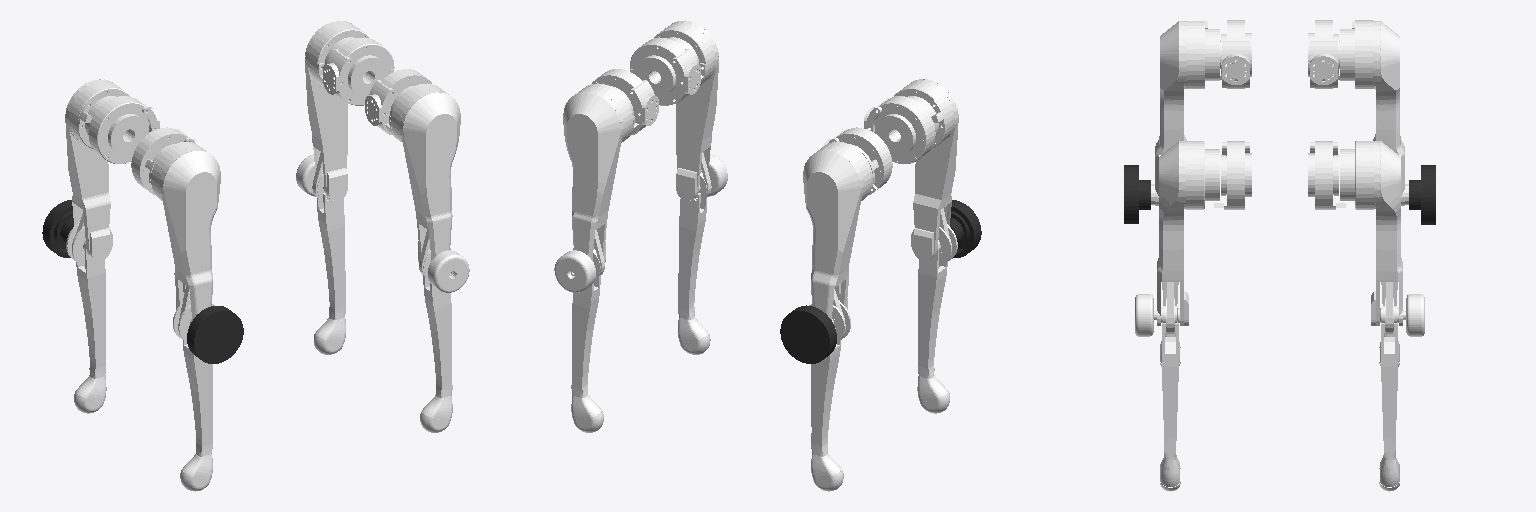
--- What the picture shows (computed from the rendered views, not written in the file) ---
Views: 3 orthographic renders of the robot side by side, from view 1: azimuth 30°, elevation 25°; view 2: azimuth 150°, elevation 25°; view 3: azimuth 270°, elevation 25°.
Robot: x_leopard — 23 links, 22 joints (12 revolute, 10 fixed); root link body; default pose: all joints at 0.
Links seen in each view (by area): view 1: link_FR2, link_HR2, link_HL2, link_FL2, link_HL3, link_FL3, link_HR3, link_HL1, link_FR3, link_FL1, link_HRW, link_FR1 (+4 smaller); view 2: link_FL2, link_HL2, link_HR2, link_FR2, link_HR3, link_FR3, link_HL3, link_HR1, link_FL3, link_FR1, link_HLW, link_FL1 (+4 smaller); view 3: link_FL2, link_FR2, link_HL2, link_HR2, link_FL3, link_FR3, link_FR1, link_FL1, link_HR1, link_HL1, link_HLW, link_HRW (+2 smaller).
Boxes of the visible links, left/top/right/bottom form: link_FR2: left=385, top=83, right=460, bottom=277; link_HR2: left=145, top=142, right=220, bottom=320; link_HL2: left=65, top=79, right=129, bottom=260; link_FL2: left=305, top=20, right=369, bottom=200; link_HL3: left=66, top=222, right=112, bottom=413; link_FL3: left=314, top=170, right=345, bottom=354; link_HR3: left=173, top=299, right=214, bottom=491; link_HL1: left=88, top=96, right=159, bottom=163; link_FR3: left=420, top=248, right=452, bottom=432; link_FL1: left=323, top=38, right=394, bottom=105; link_HRW: left=187, top=306, right=243, bottom=363; link_FR1: left=365, top=69, right=431, bottom=135; link_FL2: left=563, top=83, right=638, bottom=277; link_HL2: left=803, top=142, right=878, bottom=319; link_HR2: left=894, top=79, right=958, bottom=260; link_FR2: left=654, top=20, right=718, bottom=200; link_HR3: left=911, top=222, right=957, bottom=413; link_FR3: left=678, top=170, right=710, bottom=354; link_HL3: left=809, top=301, right=850, bottom=491; link_HR1: left=864, top=96, right=935, bottom=163; link_FL3: left=571, top=248, right=603, bottom=432; link_FR1: left=630, top=38, right=700, bottom=105; link_HLW: left=780, top=305, right=836, bottom=363; link_FL1: left=592, top=69, right=658, bottom=135; link_FL2: left=1340, top=141, right=1405, bottom=333; link_FR2: left=1154, top=141, right=1219, bottom=333; link_HL2: left=1339, top=20, right=1408, bottom=205; link_HR2: left=1151, top=21, right=1220, bottom=205; link_FL3: left=1379, top=298, right=1399, bottom=491; link_FR3: left=1160, top=298, right=1180, bottom=491; link_FR1: left=1214, top=141, right=1251, bottom=209; link_FL1: left=1308, top=141, right=1345, bottom=209; link_HR1: left=1220, top=20, right=1251, bottom=88; link_HL1: left=1308, top=20, right=1339, bottom=88; link_HLW: left=1409, top=165, right=1435, bottom=224; link_HRW: left=1124, top=165, right=1150, bottom=223.
Bounding box of the posed robot: 0.4839 × 0.427 × 0.5219 m (x, y, z).
16 mesh visuals loaded from 17 distinct referenced files (16 binary STL); not drawn: 1 (reference not matched to a file when rendering).

URDF robot description (x_leopard):
<?xml version="1.0" ?>
<!-- =================================================================================== -->
<!-- |    This document was autogenerated by xacro from x_leopard_wheeled_all.xacro    | -->
<!-- |    EDITING THIS FILE BY HAND IS NOT RECOMMENDED                                 | -->
<!-- =================================================================================== -->
<robot name="x_leopard">

    <link name="body">
        <inertial>
            <origin rpy="0 0 0" xyz="-0.00458458 0.00306684 0.00947989"/>
            <mass value="5.76855"/>
            <inertia ixx="0.0478275" ixy="0.000562337" ixz="0.000154559" iyy="0.105776" iyz="0.00054122"
                     izz="0.121012"/>
        </inertial>
        <visual>
            <origin rpy="3.1415 0 0" xyz="0 0 0"/>
            <geometry>
                <mesh filename="package://max/meshes/visual/body.dae"/>
            </geometry>
            <material name="">
                <color rgba="0.0 0.0 0.0 1.0"/>
            </material>
        </visual>
        <collision>
            <origin rpy="0 0 0" xyz="0 0 0"/>
            <geometry>
                <box size="0.283 0.205 0.11"/>
            </geometry>
        </collision>
    </link>

    <!-- FR leg -->
    <link name="link_FR1">
        <inertial>
            <origin rpy="0 0 0" xyz="-0.0028696 0.00034586 -0.00046692"/>
            <mass value="0.60318142"/>
            <inertia ixx="0.00036534" ixy="-0.00000156" ixz="-0.00000493" iyy="0.00064755" iyz="0.00000517"
                     izz="0.00041528"/>
        </inertial>
        <visual>
            <origin rpy="0 0 0" xyz="0 0 0"/>
            <geometry>
                <mesh filename="package://max/meshes/visual/link_FR1.STL"/>
            </geometry>
            <material name="">
                <color rgba="1 1 1 1"/>
            </material>
        </visual>
        <collision>
            <origin rpy="1.5707963267948966 0 0" xyz="0 0 0"/>
            <geometry>
                <cylinder length="0.0255" radius="0.047"/>
            </geometry>
        </collision>
    </link>

    <joint name="joint_FR1" type="revolute">
        <origin rpy="0 0 0" xyz="0.195 -0.06 0"/>
        <parent link="body"/>
        <child link="link_FR1"/>
        <axis xyz="1 0 0"/>
        <limit effort="18" lower="-0.872" upper="0.697" velocity="20"/>
        <dynamics damping="0.1" friction="0.5"/>
    </joint>

    <link name="link_FR2">
        <inertial>
            <origin rpy="0 0 0" xyz="-0.000703565074415824 0.0258167471878678 -0.0273471174219229"/>
            <mass value="0.87782621"/>
            <inertia ixx="0.00362810" ixy="-0.00000033" ixz="0.00001632" iyy="0.00369602" iyz="0.00052212"
                     izz="0.00075378"/>
        </inertial>
        <visual>
            <origin rpy="0 0 0" xyz="0 0 0"/>
            <geometry>
                <mesh filename="package://max/meshes/visual/link_FR2.STL"/>
            </geometry>
            <material name="">
                <color rgba="1 1 1 1"/>
            </material>
        </visual>
        <collision>
            <origin rpy="0 1.5707963267948966 0" xyz="0 0 -0.1"/>
            <geometry>
                <box size="0.2 0.025 0.035"/>
            </geometry>
        </collision>
        <collision>
            <origin rpy="1.5707963267948966 0 0" xyz="0 0 0"/>
            <geometry>
                <cylinder length="0.025" radius="0.023"/>
            </geometry>
        </collision>
        <collision>
            <origin rpy="1.5707963267948966 0 0" xyz="0 0.030 0"/>
            <geometry>
                <cylinder length="0.025" radius="0.047"/>
            </geometry>
        </collision>
    </link>

    <joint name="joint_FR2" type="revolute">
        <origin rpy="0 0 0" xyz="0 -0.09 0"/>
        <parent link="link_FR1"/>
        <child link="link_FR2"/>
        <axis xyz="0 -1 0"/>
        <limit effort="18" lower="-4.3633" upper="1.2217" velocity="20"/>
        <dynamics damping="0.1" friction="0.5"/>
    </joint>

    <link name="link_FR3">
        <inertial>
            <origin rpy="0 0 0" xyz="0.00154910870409444 1.43664953849987E-07 -0.124416339725706"/>
            <mass value="0.16887830"/>
            <inertia ixx="0.00151605" ixy="0" ixz="0.00007039" iyy="0.00153030" iyz="-0.00000013" izz="0.00003410"/>
        </inertial>
        <visual>
            <origin rpy="0 0 0" xyz="0 0 0"/>
            <geometry>
                <mesh filename="package://max/meshes/visual/link_FR3.STL"/>
            </geometry>
            <material name="">
                <color rgba="1 1 1 1"/>
            </material>
        </visual>
        <collision>
            <origin rpy="0 1.5707963267948966 0" xyz="0 0 -0.105"/>
            <geometry>
                <box size="0.24 0.02 0.018"/>
            </geometry>
        </collision>
    </link>

    <joint name="joint_FR3" type="revolute">
        <origin rpy="0 0 0" xyz="0 0 -0.2115"/>
        <parent link="link_FR2"/>
        <child link="link_FR3"/>
        <axis xyz="0 -1 0"/>
        <limit effort="18" lower="-2.4496" upper="2.5440" velocity="33"/>
        <dynamics damping="0.1" friction="0.5"/>
    </joint>

    <link name="link_FR4">
        <inertial>
            <origin rpy="0 0 0" xyz="0 0 0"/>
            <mass value="0"/>
            <inertia ixx="0" ixy="0" ixz="0" iyy="0" iyz="0" izz="0"/>
        </inertial>
        <visual>
            <origin rpy="0 0 0" xyz="0 0 0"/>
            <geometry>
                <sphere radius="0.001"/>
            </geometry>
        </visual>
        <collision>
            <origin rpy="0 0 0" xyz="0 0 0"/>
            <geometry>
                <sphere radius="0.025"/>
            </geometry>
        </collision>
    </link>

    <joint name="joint_FR4" type="fixed">
        <origin rpy="0 0 0" xyz="0 0 -0.24"/>
        <parent link="link_FR3"/>
        <child link="link_FR4"/>
    </joint>

    <link name="link_FRW">
        <inertial>
            <origin rpy="0 0 0" xyz="0 0 0"/>
            <mass value="0.0629341609141129"/>
            <inertia ixx="0.00001749" ixy="0" ixz="0" iyy="0.00002918" iyz="0" izz="0.00001749"/>
        </inertial>
        <visual>
            <origin rpy="0 0 0" xyz="0 0 0"/>
            <geometry>
                <mesh filename="package://max/meshes/visual/link_FRW.STL"/>
            </geometry>
            <material name="">
                <color rgba="1 1 1 1"/>
            </material>
        </visual>
        <collision>
            <origin rpy="1.5707963267948966 0 0" xyz="0 0 0"/>
            <geometry>
                <cylinder length="0.012" radius="0.028"/>
            </geometry>
        </collision>
    </link>

    <joint name="joint_FRW" type="fixed">
        <origin rpy="0 0 0" xyz="0 -0.0355 -0.2115"/>
        <parent link="link_FR2"/>
        <child link="link_FRW"/>
        <axis xyz="0 -1 0"/>
        <limit effort="18" lower="-214700000" upper="214700000" velocity="33"/>
        <dynamics damping="0.8" friction="0.5"/>
    </joint>

    <!-- FL leg -->
    <link name="link_FL1">
        <inertial>
            <origin rpy="0 0 0" xyz="-0.0028696 -0.00034586 -0.00046692"/>
            <mass value="0.60318142"/>
            <inertia ixx="0.00036534" ixy="0.00000156" ixz="-0.00000493" iyy="0.00064755" iyz="-0.00000517"
                     izz="0.00041528"/>
        </inertial>
        <visual>
            <origin rpy="0 0 0" xyz="0 0 0"/>
            <geometry>
                <mesh filename="package://max/meshes/visual/link_FL1.STL"/>
            </geometry>
            <material name="">
                <color rgba="1 1 1 1"/>
            </material>
        </visual>
        <collision>
            <origin rpy="1.5707963267948966 0 0" xyz="0 0 0"/>
            <geometry>
                <cylinder length="0.0255" radius="0.047"/>
            </geometry>
        </collision>
    </link>

    <joint name="joint_FL1" type="revolute">
        <origin rpy="0 0 0" xyz="0.195 0.06 0"/>
        <parent link="body"/>
        <child link="link_FL1"/>
        <axis xyz="1 0 0"/>
        <limit effort="18" lower="-0.697" upper="0.872" velocity="20"/>
        <dynamics damping="0.1" friction="0.5"/>
    </joint>

    <link name="link_FL2">
        <inertial>
            <origin rpy="0 0 0" xyz="-0.000703565074415824 -0.0258167471878678 -0.0273471174219229"/>
            <mass value="0.87782621"/>
            <inertia ixx="0.00362810" ixy="0.00000033" ixz="0.00001632" iyy="0.00369602" iyz="-0.00052212"
                     izz="0.00075378"/>
        </inertial>
        <visual>
            <origin rpy="0 0 0" xyz="0 0 0"/>
            <geometry>
                <mesh filename="package://max/meshes/visual/link_FL2.STL"/>
            </geometry>
            <material name="">
                <color rgba="1 1 1 1"/>
            </material>
        </visual>
        <collision>
            <origin rpy="0 1.5707963267948966 0" xyz="0 0 -0.1"/>
            <geometry>
                <box size="0.2 0.025 0.035"/>
            </geometry>
        </collision>
        <collision>
            <origin rpy="1.5707963267948966 0 0" xyz="0 0 0"/>
            <geometry>
                <cylinder length="0.025" radius="0.023"/>
            </geometry>
        </collision>
        <collision>
            <origin rpy="1.5707963267948966 0 0" xyz="0 -0.030 0"/>
            <geometry>
                <cylinder length="0.025" radius="0.047"/>
            </geometry>
        </collision>
    </link>

    <joint name="joint_FL2" type="revolute">
        <origin rpy="0 0 0" xyz="0 0.09 0"/>
        <parent link="link_FL1"/>
        <child link="link_FL2"/>
        <axis xyz="0 -1 0"/>
        <limit effort="18" lower="-4.3633" upper="1.2217" velocity="20"/>
        <dynamics damping="0.1" friction="0.5"/>
    </joint>

    <link name="link_FL3">
        <inertial>
            <origin rpy="0 0 0" xyz="0.00154910870409444 1.43664953849987E-07 -0.124416339725706"/>
            <mass value="0.16887830"/>
            <inertia ixx="0.00151605" ixy="0" ixz="0.00007039" iyy="0.00153030" iyz="-0.00000013" izz="0.00003410"/>
        </inertial>
        <visual>
            <origin rpy="0 0 0" xyz="0 0 0"/>
            <geometry>
                <mesh filename="package://max/meshes/visual/link_FL3.STL"/>
            </geometry>
            <material name="">
                <color rgba="1 1 1 1"/>
            </material>
        </visual>
        <collision>
            <origin rpy="0 1.5707963267948966 0" xyz="0 0 -0.12"/>
            <geometry>
                <box size="0.24 0.02 0.018"/>
            </geometry>
        </collision>
    </link>

    <joint name="joint_FL3" type="revolute">
        <origin rpy="0 0 0" xyz="0 0 -0.2115"/>
        <parent link="link_FL2"/>
        <child link="link_FL3"/>
        <axis xyz="0 -1 0"/>
        <limit effort="18" lower="-2.4496" upper="2.5440" velocity="33"/>
        <dynamics damping="0.1" friction="0.5"/>
    </joint>

    <link name="link_FL4">
        <inertial>
            <origin rpy="0 0 0" xyz="0 0 0"/>
            <mass value="0"/>
            <inertia ixx="0" ixy="0" ixz="0" iyy="0" iyz="0" izz="0"/>
        </inertial>
        <visual>
            <origin rpy="0 0 0" xyz="0 0 0"/>
            <geometry>
                <sphere radius="0.001"/>
            </geometry>
        </visual>
        <collision>
            <origin rpy="0 0 0" xyz="0 0 0"/>
            <geometry>
                <sphere radius="0.025"/>
            </geometry>
        </collision>
    </link>

    <joint name="joint_FL4" type="fixed">
        <origin rpy="0 0 0" xyz="0 0 -0.24"/>
        <parent link="link_FL3"/>
        <child link="link_FL4"/>
    </joint>

    <link name="link_FLW">
        <inertial>
            <origin rpy="0 0 0" xyz="0 0 0"/>
            <mass value="0.0629341609141129"/>
            <inertia ixx="0.00001749" ixy="0" ixz="0" iyy="0.00002918" iyz="0" izz="0.00001749"/>
        </inertial>
        <visual>
            <origin rpy="0 0 0" xyz="0 0 0"/>
            <geometry>
                <mesh filename="package://max/meshes/visual/link_FLW.STL"/>
            </geometry>
            <material name="">
                <color rgba="1 1 1 1"/>
            </material>
        </visual>
        <collision>
            <origin rpy="1.5707963267948966 0 0" xyz="0 0 0"/>
            <geometry>
                <cylinder length="0.012" radius="0.028"/>
            </geometry>
        </collision>
    </link>

    <joint name="joint_FLW" type="fixed">
        <origin rpy="0 0 0" xyz="0 0.0355 -0.2115"/>
        <parent link="link_FL2"/>
        <child link="link_FLW"/>
        <axis xyz="0 -1 0"/>
        <limit effort="18" lower="-214700000" upper="214700000" velocity="33"/>
        <dynamics damping="0.8" friction="0.5"/>
    </joint>

    <!-- HR leg -->
    <link name="link_HR1">
        <inertial>
            <origin rpy="0 0 0" xyz="0.0028696 0.00034586 -0.00046692"/>
            <mass value="0.60318142"/>
            <inertia ixx="0.00036534" ixy="0.00000156" ixz="0.00000493" iyy="0.00064755" iyz="0.00000517"
                     izz="0.00041528"/>
        </inertial>
        <visual>
            <origin rpy="0 0 0" xyz="0 0 0"/>
            <geometry>
                <mesh filename="package://max/meshes/visual/link_HR1.STL"/>
            </geometry>
            <material name="">
                <color rgba="1 1 1 1"/>
            </material>
        </visual>
        <collision>
            <origin rpy="1.5707963267948966 0 0" xyz="0 0 0"/>
            <geometry>
                <cylinder length="0.0255" radius="0.047"/>
            </geometry>
        </collision>
    </link>

    <joint name="joint_HR1" type="revolute">
        <origin rpy="0 0 0" xyz="-0.195 -0.06 0"/>
        <parent link="body"/>
        <child link="link_HR1"/>
        <axis xyz="1 0 0"/>
        <limit effort="18" lower="-0.872" upper="0.697" velocity="20"/>
        <dynamics damping="0.1" friction="0.5"/>
    </joint>

    <link name="link_HR2">
        <inertial>
            <origin rpy="0 0 0" xyz="-0.00077477 0.02622481 -0.02560268"/>
            <mass value="0.89043408"/>
            <inertia ixx="0.00366698" ixy="0.00004816" ixz="-0.00007841" iyy="0.00417229" iyz="0.00046644"
                     izz="0.00119996"/>
        </inertial>
        <visual>
            <origin rpy="0 0 0" xyz="0 0 0"/>
            <geometry>
                <mesh filename="package://max/meshes/visual/link_HR2.STL"/>
            </geometry>
            <material name="">
                <color rgba="1 1 1 1"/>
            </material>
        </visual>
        <collision>
            <origin rpy="0 1.5707963267948966 0" xyz="0 0 -0.1"/>
            <geometry>
                <box size="0.2 0.025 0.035"/>
            </geometry>
        </collision>
        <collision>
            <origin rpy="1.5707963267948966 0 0" xyz="0 0 0"/>
            <geometry>
                <cylinder length="0.025" radius="0.023"/>
            </geometry>
        </collision>
        <collision>
            <origin rpy="1.5707963267948966 0 0" xyz="0 0.030 0"/>
            <geometry>
                <cylinder length="0.025" radius="0.047"/>
            </geometry>
        </collision>
    </link>

    <joint name="joint_HR2" type="revolute">
        <origin rpy="0 0 0" xyz="0 -0.09 0"/>
        <parent link="link_HR1"/>
        <child link="link_HR2"/>
        <axis xyz="0 -1 0"/>
        <limit effort="18" lower="-4.3633" upper="1.2217" velocity="20"/>
        <dynamics damping="0.1" friction="0.5"/>
    </joint>

    <link name="link_HR3">
        <inertial>
            <origin rpy="0 0 0" xyz="0.00171417901871168 -0.000158421724618441 -0.0867126641820617"/>
            <mass value="0.28839466"/>
            <inertia ixx="0.00208102" ixy="-0.00000004" ixz="0.00008280" iyy="0.00209717" iyz="-0.00000423"
                     izz="0.00006551"/>
        </inertial>
        <visual>
            <origin rpy="0 0 0" xyz="0 0 0"/>
            <geometry>
                <mesh filename="package://max/meshes/visual/link_HR3.STL"/>
            </geometry>
            <material name="">
                <color rgba="1 1 1 1"/>
            </material>
        </visual>
        <collision>
            <origin rpy="0 1.5707963267948966 0" xyz="0 0 -0.105"/>
            <geometry>
                <box size="0.24 0.02 0.018"/>
            </geometry>
        </collision>
    </link>

    <joint name="joint_HR3" type="revolute">
        <origin rpy="0 0 0" xyz="0 0 -0.2115"/>
        <parent link="link_HR2"/>
        <child link="link_HR3"/>
        <axis xyz="0 -1 0"/>
        <limit effort="18" lower="-2.3995" upper="2.5855" velocity="33"/>
        <dynamics damping="0.1" friction="0.5"/>
    </joint>

    <link name="link_HR4">
        <inertial>
            <origin rpy="0 0 0" xyz="0 0 0"/>
            <mass value="0"/>
            <inertia ixx="0" ixy="0" ixz="0" iyy="0" iyz="0" izz="0"/>
        </inertial>
        <visual>
            <origin rpy="0 0 0" xyz="0 0 0"/>
            <geometry>
                <sphere radius="0.001"/>
            </geometry>
        </visual>
        <collision>
            <origin rpy="0 0 0" xyz="0 0 0"/>
            <geometry>
                <sphere radius="0.025"/>
            </geometry>
        </collision>
    </link>

    <joint name="joint_HR4" type="fixed">
        <origin rpy="0 0 0" xyz="0 0 -0.24"/>
        <parent link="link_HR3"/>
        <child link="link_HR4"/>
    </joint>

    <link name="link_HRW">
        <inertial>
            <origin rpy="0 0 0" xyz="0 0 0"/>
            <mass value="0.120"/>
            <inertia ixx="0.000025" ixy="0" ixz="0" iyy="0.000040" iyz="0" izz="0.000025"/>
        </inertial>
        <visual>
            <origin rpy="0 0 0" xyz="0 0.02115 0"/>
            <geometry>
                <mesh filename="package://max/meshes/visual/link_HRW.STL"/>
            </geometry>
            <material name="">
                <color rgba="0.250980392156863 0.250980392156863 0.250980392156863 1"/>
            </material>
        </visual>
        <collision>
            <origin rpy="1.5707963267948966 0 0" xyz="0 0 0"/>
            <geometry>
                <cylinder length="0.016" radius="0.036"/>
            </geometry>
        </collision>
    </link>

    <joint name="joint_HRW" type="fixed">
        <origin rpy="0 1.5708 0" xyz="0 -0.04795 -0.2115"/>
        <parent link="link_HR2"/>
        <child link="link_HRW"/>
        <axis xyz="0 -1 0"/>
        <limit effort="18" lower="-214700000" upper="214700000" velocity="33"/>
        <dynamics damping="0.8" friction="0.5"/>
    </joint>

    <!-- HL leg -->
    <link name="link_HL1">
        <inertial>
            <origin rpy="0 0 0" xyz="0.0028696 -0.00034586 -0.00046692"/>
            <mass value="0.60318142"/>
            <inertia ixx="0.00036534" ixy="-0.00000156" ixz="0.00000493" iyy="0.00064755" iyz="-0.00000517"
                     izz="0.00041528"/>
        </inertial>
        <visual>
            <origin rpy="0 0 0" xyz="0 0 0"/>
            <geometry>
                <mesh filename="package://max/meshes/visual/link_HL1.STL"/>
            </geometry>
            <material name="">
                <color rgba="1 1 1 1"/>
            </material>
        </visual>
        <collision>
            <origin rpy="1.5707963267948966 0 0" xyz="0 0 0"/>
            <geometry>
                <cylinder length="0.0255" radius="0.047"/>
            </geometry>
        </collision>
    </link>

    <joint name="joint_HL1" type="revolute">
        <origin rpy="0 0 0" xyz="-0.195 0.06 0"/>
        <parent link="body"/>
        <child link="link_HL1"/>
        <axis xyz="1 0 0"/>
        <limit effort="18" lower="-0.697" upper="0.872" velocity="20"/>
        <dynamics damping="0.1" friction="0.5"/>
    </joint>

    <link name="link_HL2">
        <inertial>
            <origin rpy="0 0 0" xyz="-0.00077477 -0.02622481 -0.02560268"/>
            <mass value="0.89043408"/>
            <inertia ixx="0.00366698" ixy="0.00004816" ixz="0.00007841" iyy="0.00417229" iyz="-0.00046644"
                     izz="0.00119996"/>
        </inertial>
        <visual>
            <origin rpy="0 0 0" xyz="0 0 0"/>
            <geometry>
                <mesh filename="package://max/meshes/visual/link_HL2.STL"/>
            </geometry>
            <material name="">
                <color rgba="1 1 1 1"/>
            </material>
        </visual>
        <collision>
            <origin rpy="0 1.5707963267948966 0" xyz="0 0 -0.1"/>
            <geometry>
                <box size="0.2 0.025 0.035"/>
            </geometry>
        </collision>
        <collision>
            <origin rpy="1.5707963267948966 0 0" xyz="0 0 0"/>
            <geometry>
                <cylinder length="0.025" radius="0.023"/>
            </geometry>
        </collision>
        <collision>
            <origin rpy="1.5707963267948966 0 0" xyz="0 -0.030 0"/>
            <geometry>
                <cylinder length="0.025" radius="0.047"/>
            </geometry>
        </collision>
    </link>

    <joint name="joint_HL2" type="revolute">
        <origin rpy="0 0 0" xyz="0 0.09 0"/>
        <parent link="link_HL1"/>
        <child link="link_HL2"/>
        <axis xyz="0 -1 0"/>
        <limit effort="18" lower="-4.3633" upper="1.2217" velocity="20"/>
        <dynamics damping="0.1" friction="0.5"/>
    </joint>

    <link name="link_HL3">
        <inertial>
            <origin rpy="0 0 0" xyz="0.00171417901871168 0.000158421724618441 -0.0867126641820617"/>
            <mass value="0.28839466"/>
            <inertia ixx="0.00208102" ixy="0.00000004" ixz="0.00008280" iyy="0.00209717" iyz="0.00000423"
                     izz="0.00006551"/>
        </inertial>
        <visual>
            <origin rpy="0 0 0" xyz="0 0 0"/>
            <geometry>
                <mesh filename="package://max/meshes/visual/link_HL3.STL"/>
            </geometry>
            <material name="">
                <color rgba="1 1 1 1"/>
            </material>
        </visual>
        <collision>
            <origin rpy="0 1.5707963267948966 0" xyz="0 0 -0.105"/>
            <geometry>
                <box size="0.24 0.02 0.018"/>
            </geometry>
        </collision>
    </link>

    <joint name="joint_HL3" type="revolute">
        <origin rpy="0 0 0" xyz="0 0 -0.2115"/>
        <parent link="link_HL2"/>
        <child link="link_HL3"/>
        <axis xyz="0 -1 0"/>
        <limit effort="18" lower="-2.3995" upper="2.5855" velocity="33"/>
        <dynamics damping="0.1" friction="0.5"/>
    </joint>

    <link name="link_HL4">
        <inertial>
            <origin rpy="0 0 0" xyz="0 0 0"/>
            <mass value="0"/>
            <inertia ixx="0" ixy="0" ixz="0" iyy="0" iyz="0" izz="0"/>
        </inertial>
        <visual>
            <origin rpy="0 0 0" xyz="0 0 0"/>
            <geometry>
                <sphere radius="0.001"/>
            </geometry>
        </visual>
        <collision>
            <origin rpy="0 0 0" xyz="0 0 0"/>
            <geometry>
                <sphere radius="0.025"/>
            </geometry>
        </collision>
    </link>

    <joint name="joint_HL4" type="fixed">
        <origin rpy="0 0 0" xyz="0 0 -0.24"/>
        <parent link="link_HL3"/>
        <child link="link_HL4"/>
    </joint>

    <link name="link_HLW">
        <inertial>
            <origin rpy="0 0 0" xyz="0 0 0"/>
            <mass value="0.120"/>
            <inertia ixx="0.000025" ixy="0" ixz="0" iyy="0.000040" iyz="0" izz="0.000025"/>
        </inertial>
        <visual>
            <origin rpy="0 0 0" xyz="0 -0.02115 0"/>
            <geometry>
                <mesh filename="package://max/meshes/visual/link_HLW.STL"/>
            </geometry>
            <material name="">
                <color rgba="0.250980392156863 0.250980392156863 0.250980392156863 1"/>
            </material>
        </visual>
        <collision>
            <origin rpy="1.5707963267948966 0 0" xyz="0 0 0"/>
            <geometry>
                <cylinder length="0.016" radius="0.036"/>
            </geometry>
        </collision>
    </link>

    <joint name="joint_HLW" type="fixed">
        <origin rpy="0 1.5708 0" xyz="0 0.04795 -0.2115"/>
        <parent link="link_HL2"/>
        <child link="link_HLW"/>
        <axis xyz="0 -1 0"/>
        <limit effort="18" lower="-214700000" upper="214700000" velocity="33"/>
        <dynamics damping="0.8" friction="0.5"/>
    </joint>

    <!-- Front Handle -->
    <link name="link_front_handle">
        <inertial>
            <origin rpy="0 0 0" xyz="0 0 0"/>
            <mass value="0.001"/>
            <inertia ixx="0" ixy="0" ixz="0" iyy="0" iyz="0" izz="0"/>
        </inertial>
        <collision>
            <origin rpy="0 0 0" xyz="0 0 0"/>
            <geometry>
                <sphere radius="0.001"/>
            </geometry>
        </collision>
    </link>

    <joint name="joint_front_handle" type="fixed">
        <origin rpy="0 0 0" xyz="0.1415 0 0.085"/>
        <parent link="body"/>
        <child link="link_front_handle"/>
    </joint>

    <!-- Hind Handle -->
    <link name="link_hind_handle">
        <inertial>
            <origin rpy="0 0 0" xyz="0 0 0"/>
            <mass value="0.001"/>
            <inertia ixx="0" ixy="0" ixz="0" iyy="0" iyz="0" izz="0"/>
        </inertial>
        <collision>
            <origin rpy="0 0 0" xyz="0 0 0"/>
            <geometry>
                <sphere radius="0.001"/>
            </geometry>
        </collision>
    </link>

    <joint name="joint_hind_handle" type="fixed">
        <origin rpy="0 0 0" xyz="-0.2485 0 0.085"/>
        <parent link="body"/>
        <child link="link_hind_handle"/>
    </joint>

</robot>
